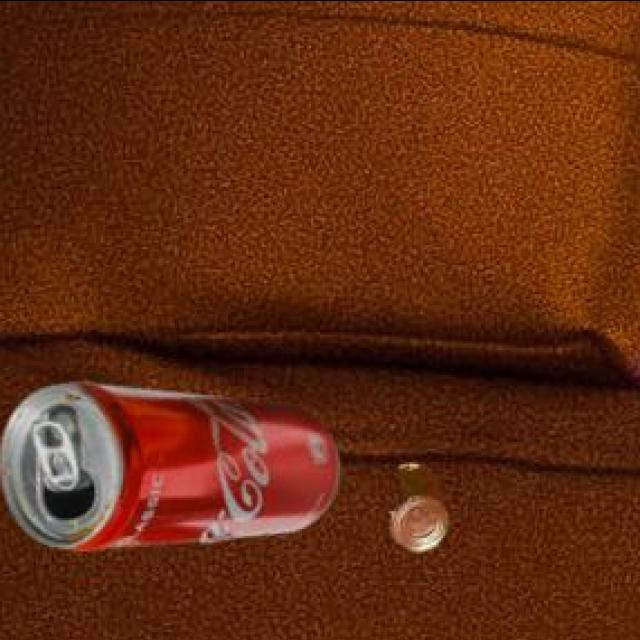logam: (3, 377, 343, 547), (395, 460, 451, 547)
